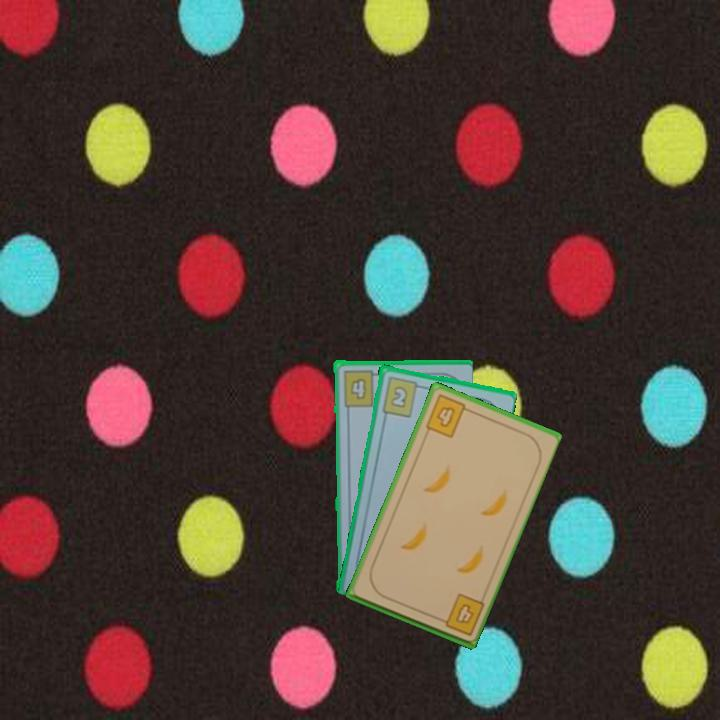2b: (378, 373, 426, 419)
4b: (433, 590, 487, 639), (422, 391, 474, 441), (339, 366, 382, 408)
